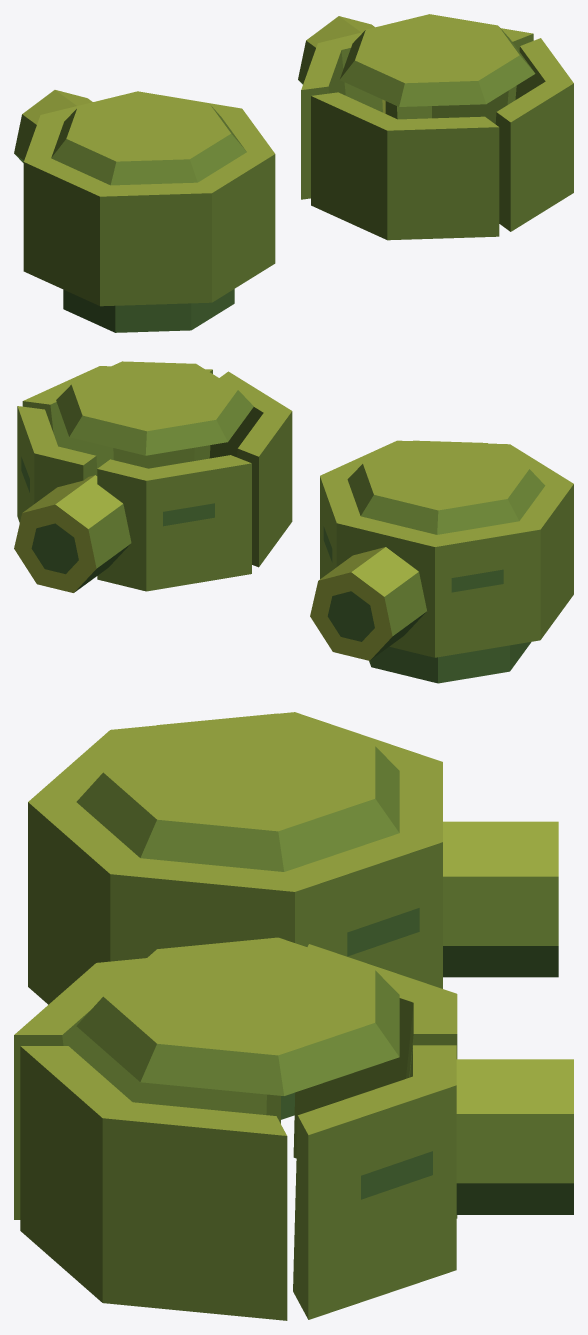
The model's file is enemyTurret.fbx.
The picture shows the model from 3 angles, top to bottom: view 1: azimuth 30°, elevation 25°; view 2: azimuth 150°, elevation 25°; view 3: azimuth 270°, elevation 25°; orthographic projection. The views are drawn at different scales.
Visible parts, largest first — view 1: Mesh_EnemyTurret, Mesh_EnemyTurretPart6, Mesh_EnemyTurretPart3, Mesh_EnemyTurretPart5, Mesh_EnemyTurretPart1, Mesh_EnemyTurretPart4, Mesh_EnemyTurretPart2; view 2: Mesh_EnemyTurret, Mesh_EnemyTurretPart1, Mesh_EnemyTurretPart3, Mesh_EnemyTurretPart2, Mesh_EnemyTurretPart6, Mesh_EnemyTurretPart4, Mesh_EnemyTurretPart5; view 3: Mesh_EnemyTurret, Mesh_EnemyTurretPart5, Mesh_EnemyTurretPart3, Mesh_EnemyTurretPart4, Mesh_EnemyTurretPart2, Mesh_EnemyTurretPart6, Mesh_EnemyTurretPart1.
Part boxes in pixels (box(x1,y1,x2,y2)): Mesh_EnemyTurret: box(14, 90, 275, 332); Mesh_EnemyTurretPart6: box(311, 92, 499, 240); Mesh_EnemyTurretPart3: box(339, 14, 535, 106); Mesh_EnemyTurretPart5: box(495, 38, 573, 231); Mesh_EnemyTurretPart1: box(301, 32, 382, 199); Mesh_EnemyTurretPart4: box(385, 28, 533, 123); Mesh_EnemyTurretPart2: box(298, 16, 385, 113); Mesh_EnemyTurret: box(310, 440, 573, 683); Mesh_EnemyTurretPart1: box(97, 455, 251, 591); Mesh_EnemyTurretPart3: box(56, 361, 253, 455); Mesh_EnemyTurretPart2: box(14, 475, 131, 592); Mesh_EnemyTurretPart6: box(209, 371, 292, 567); Mesh_EnemyTurretPart4: box(17, 406, 97, 522); Mesh_EnemyTurretPart5: box(22, 366, 212, 468); Mesh_EnemyTurret: box(28, 712, 558, 1119); Mesh_EnemyTurretPart5: box(20, 1046, 287, 1320); Mesh_EnemyTurretPart3: box(76, 937, 399, 1095); Mesh_EnemyTurretPart4: box(293, 1045, 456, 1319); Mesh_EnemyTurretPart2: box(456, 1059, 573, 1214); Mesh_EnemyTurretPart6: box(14, 958, 280, 1219); Mesh_EnemyTurretPart1: box(293, 944, 457, 1218).
Bounding box in the file's own units: 3.45 × 1.92 × 1.14.
